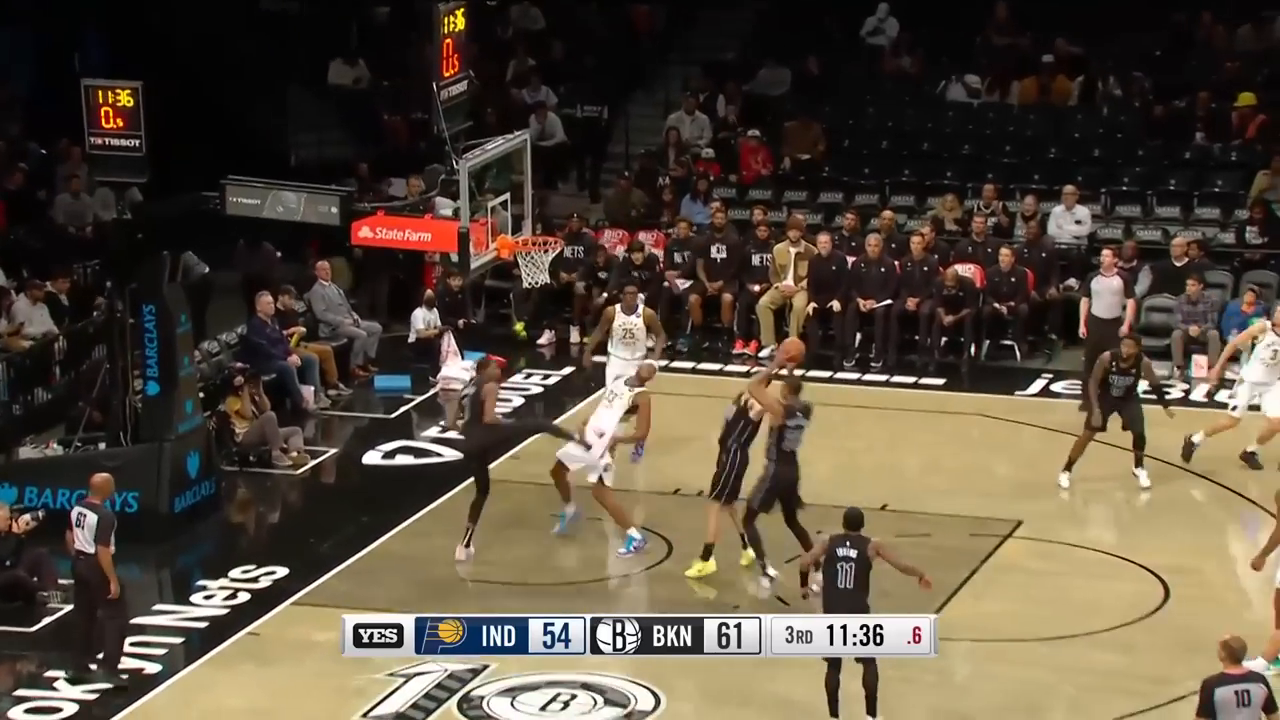ball: (777, 335, 808, 366)
net: (510, 235, 566, 290)
